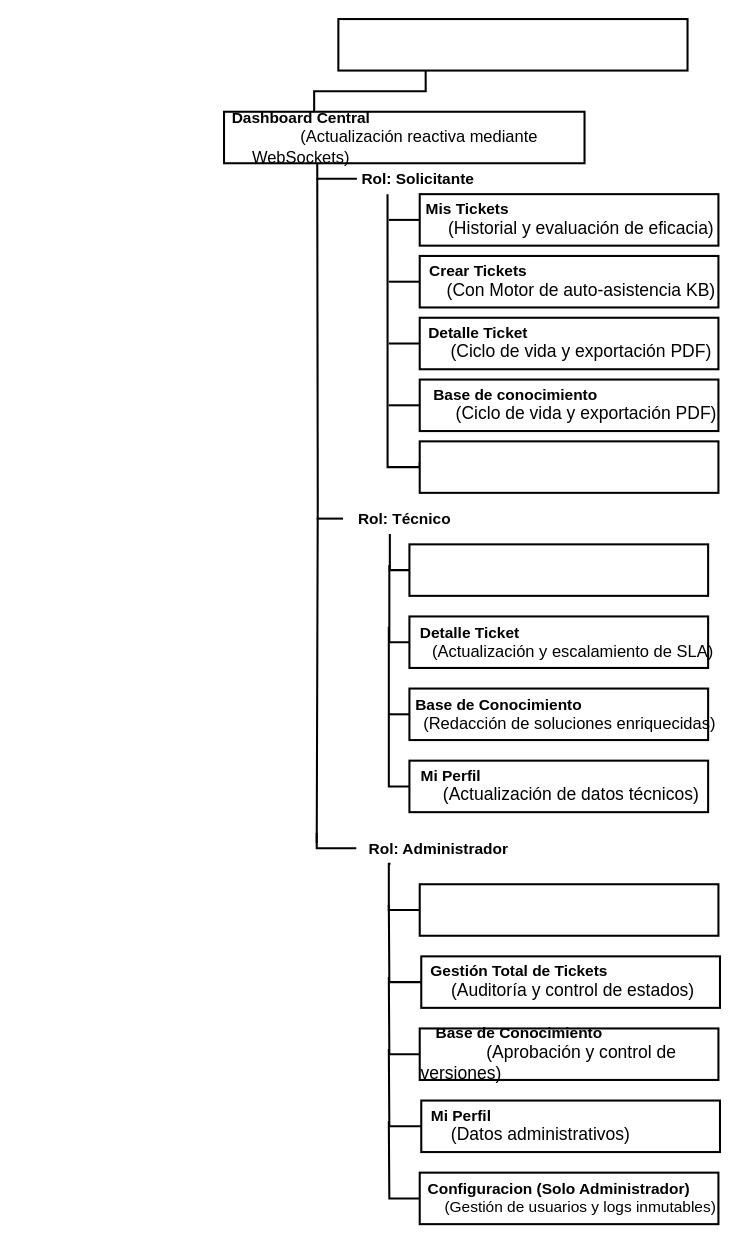
The diagram is 753 pixels wide and 1242 high, and some of its shapes have lost their labels. Each missing label, with the centre of its shape:
"[Raíz] Pantalla de Login (Autenticaión base, Recuperacion y 2FA)" belongs at point 512,44.
"Mi Perfil (Gestión de credenciales con bcrypt)" belongs at point 568,466.
"Mis Tickets Asignados (Gestión de colas de atención)" belongs at point 558,569.
"Monitoreo de KPls (Gráficas globales de cumplimiento)" belongs at point 568,909.
